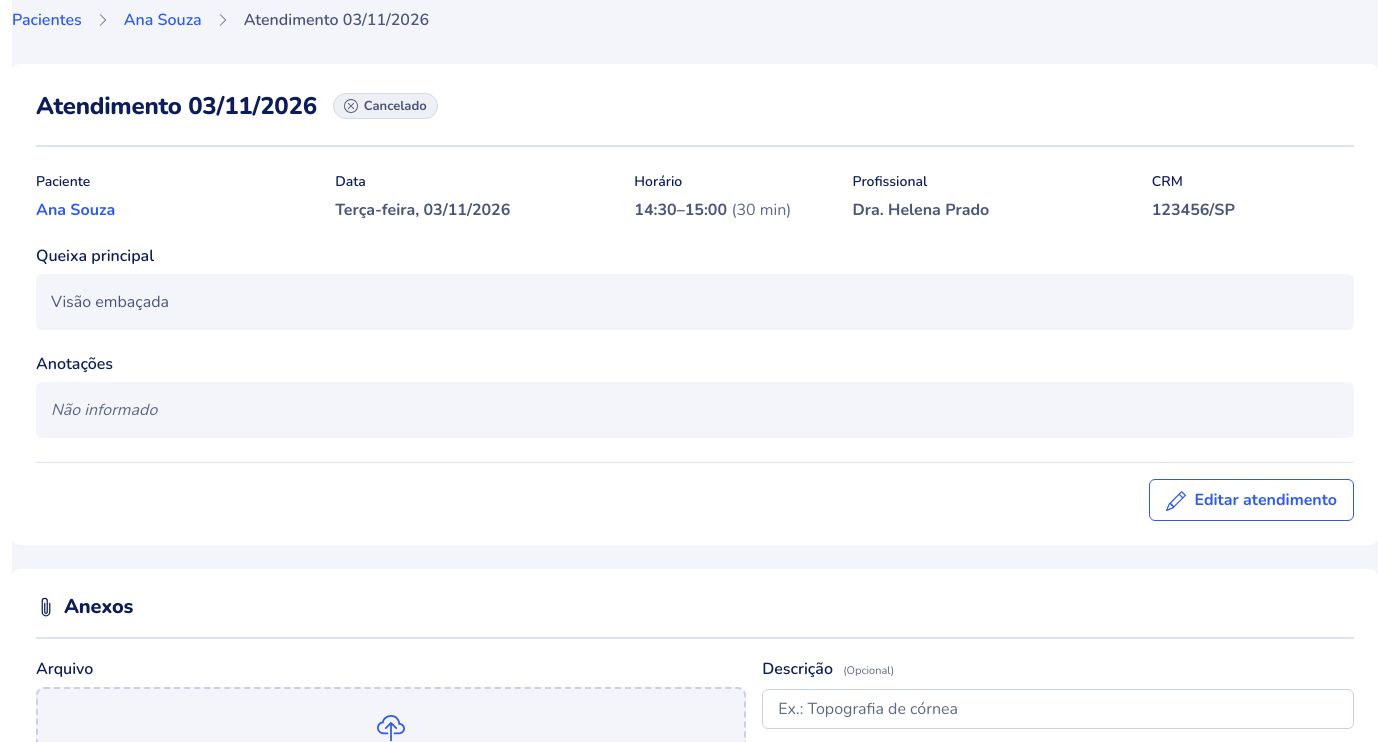
Test: ConsultationDetailView › edits the consultation (final state: notes only) and maps 422
Click the button "Editar atendimento". click: (1252, 500)
box: [1149,479,1354,521]
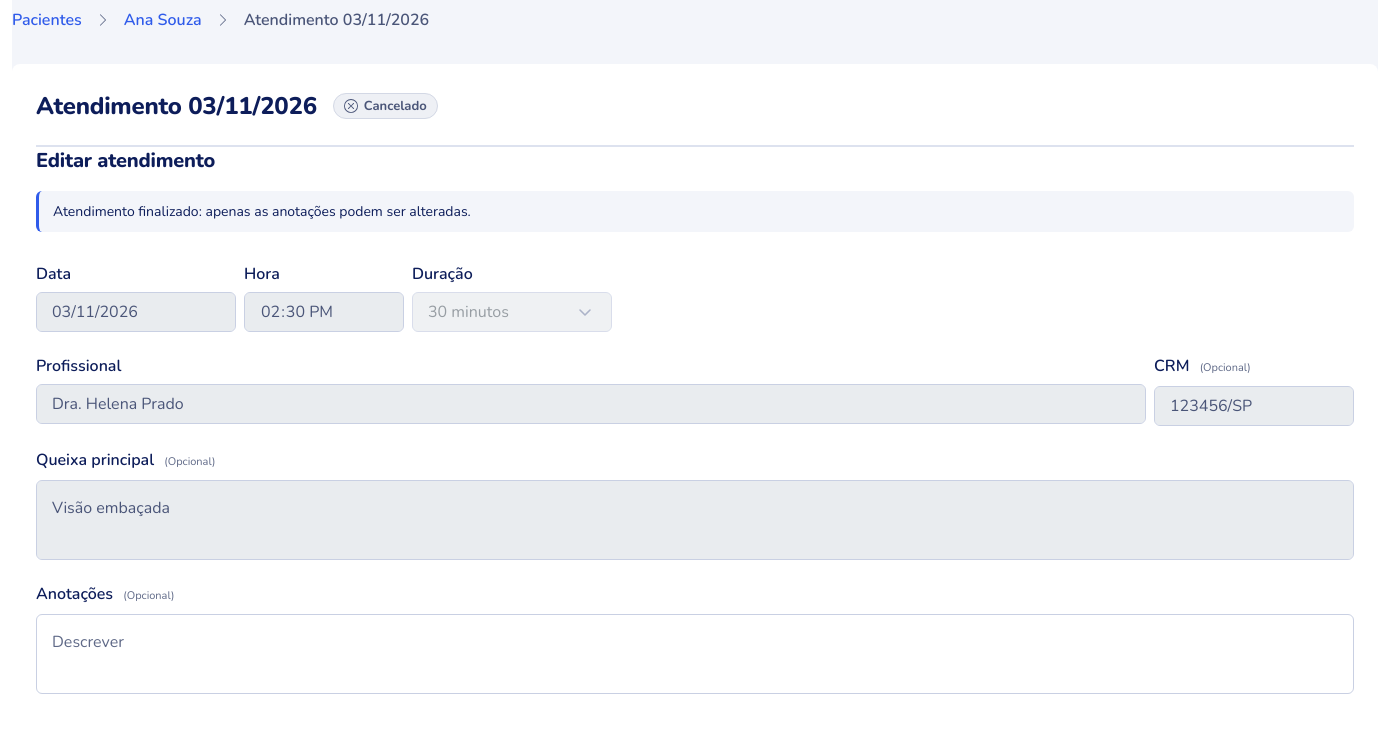
Expected: the heading "Editar atendimento" is shown, [36,147,215,174]
Type "Paciente remarcou." into the text box with id "cf-notes". click: (695, 654)
box: [36,614,1354,694]
(page scrolled)
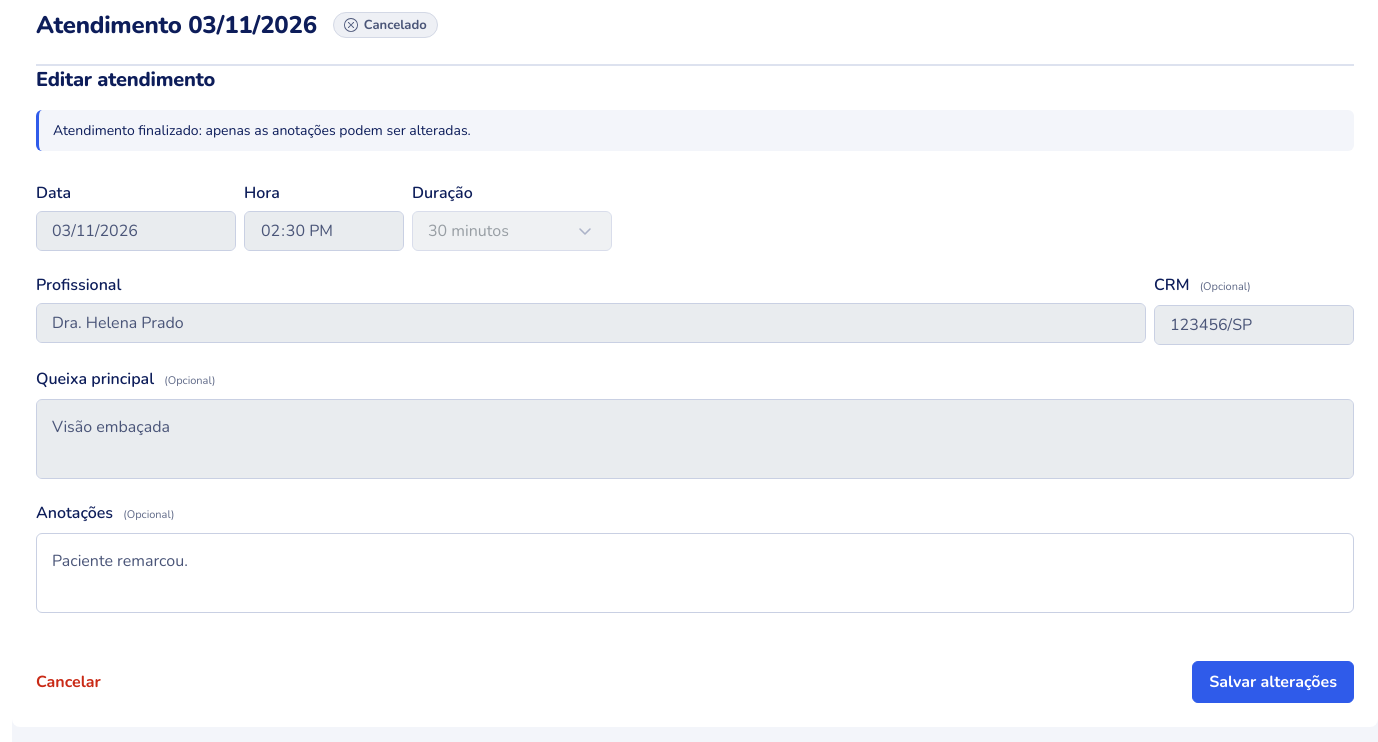
Submit the form
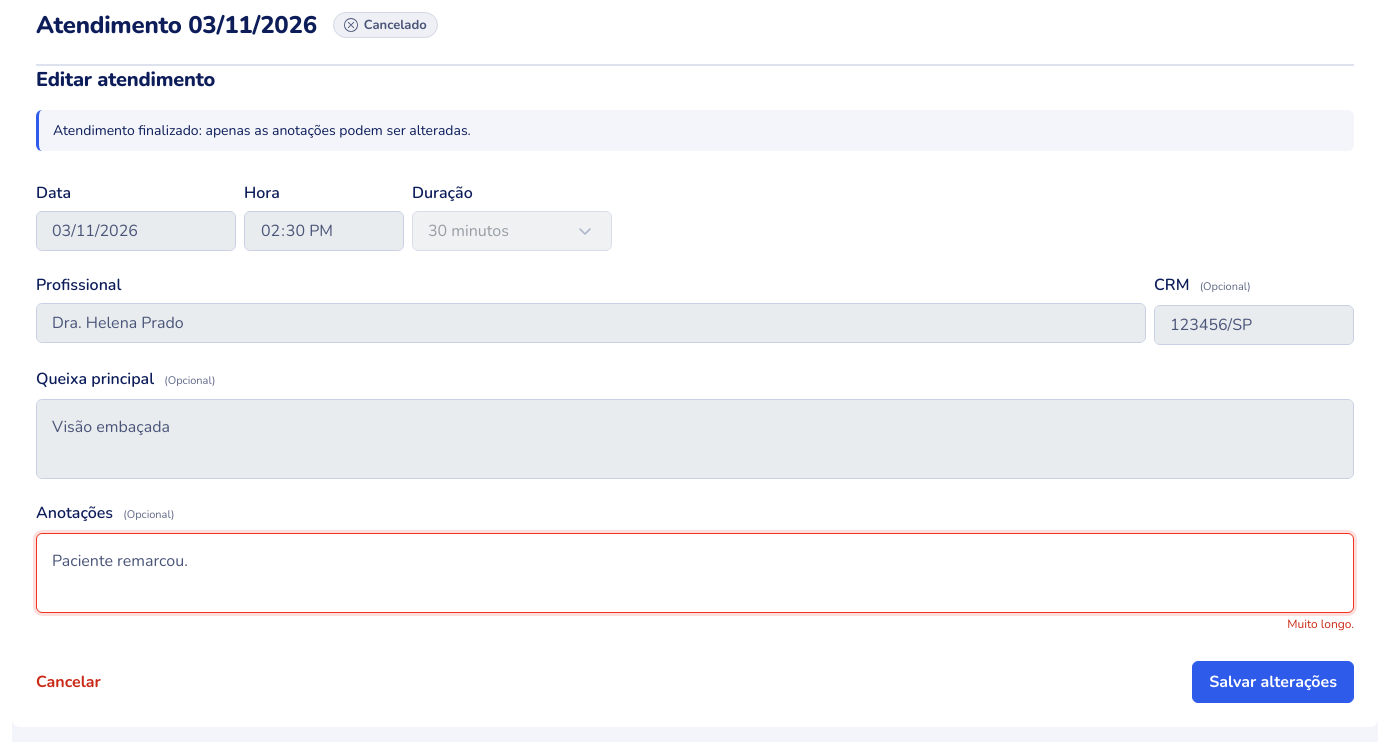
Expected: the text with id "cf-notes-error" reads "Muito longo.", [1287,616,1354,632]
Submit the form
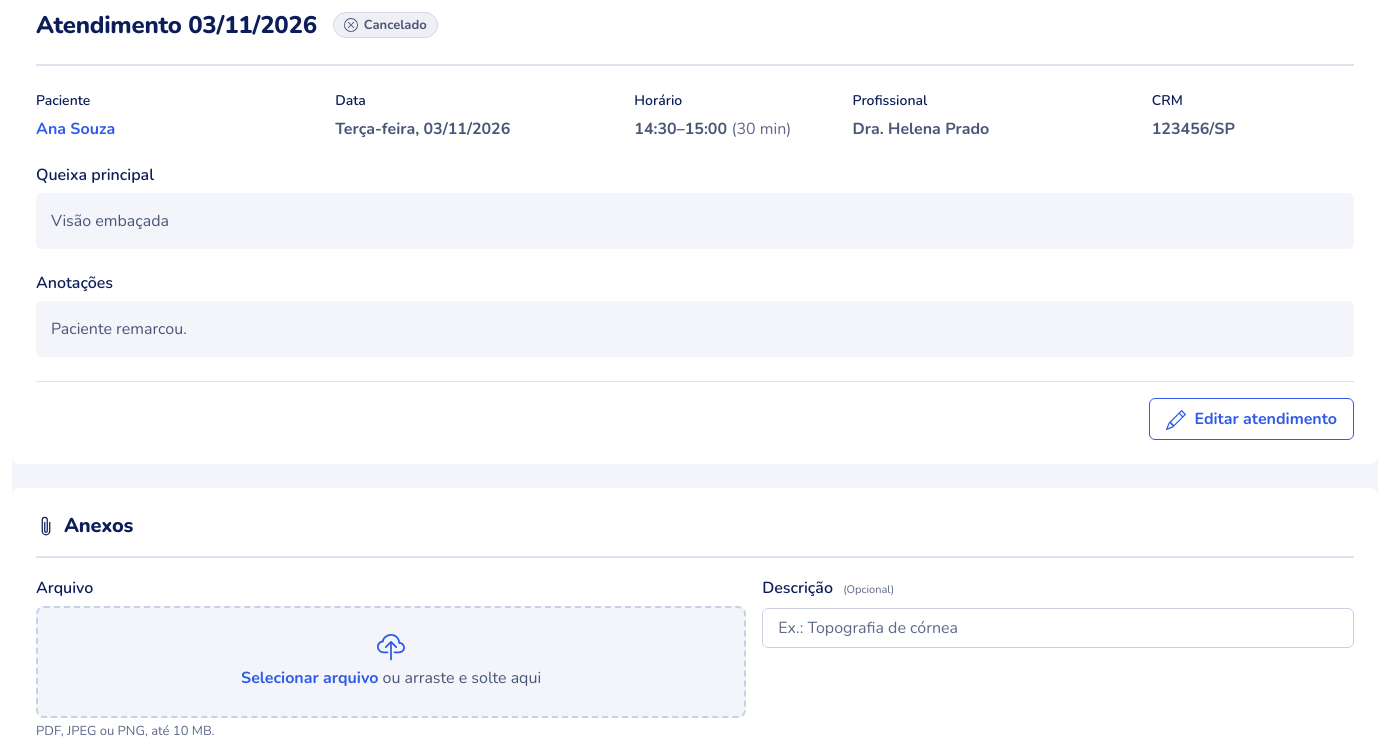
Expected: the form with class "consultation-form" is gone
Expected: the text "Paciente remarcou." is shown, [36,301,1354,357]
